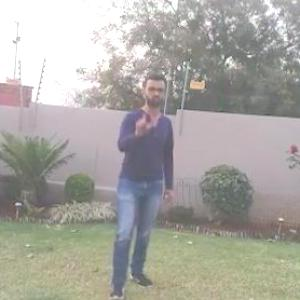land_hand: (130, 103, 158, 142)
